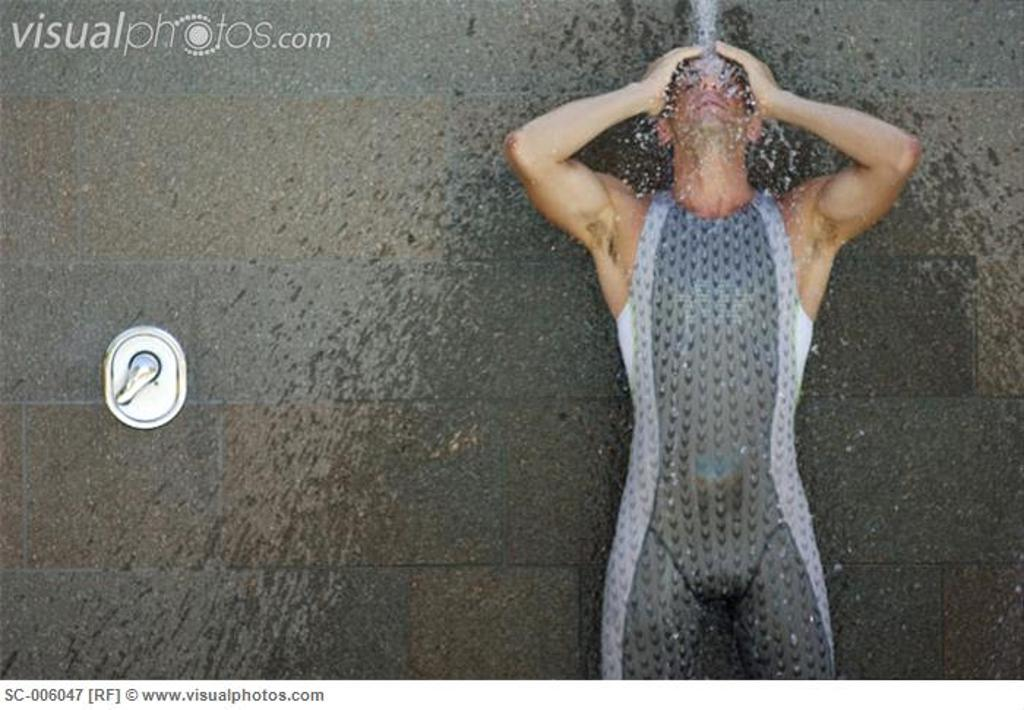face: (670, 52, 744, 136)
